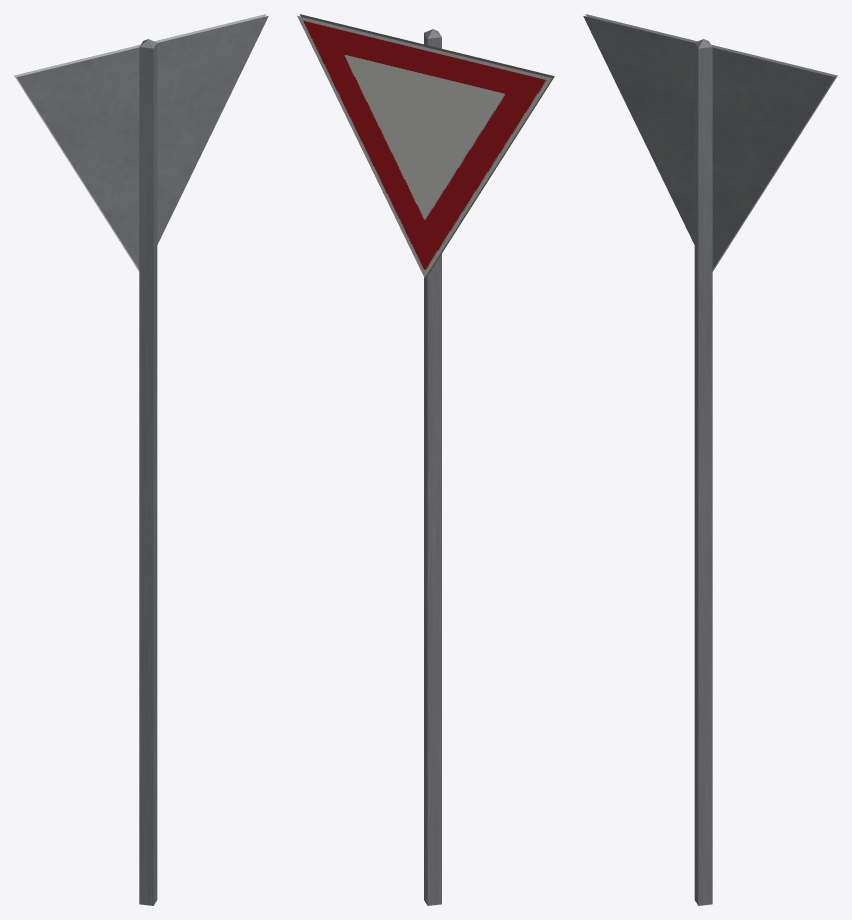
File: SM_Morin_CartelloPrecedenza_LOD2.fbx
3 views of the same model, side by side, from view 1: azimuth 30°, elevation 25°; view 2: azimuth 150°, elevation 25°; view 3: azimuth 330°, elevation 25° (orthographic).
Visible parts, largest first — view 1: SM_Morin_CartelloPrecedenza_LOD2; view 2: SM_Morin_CartelloPrecedenza_LOD2; view 3: SM_Morin_CartelloPrecedenza_LOD2.
Boxes of the visible parts, box(x1,y1,x2,y2) form: SM_Morin_CartelloPrecedenza_LOD2: box(14, 14, 268, 905); SM_Morin_CartelloPrecedenza_LOD2: box(297, 14, 554, 905); SM_Morin_CartelloPrecedenza_LOD2: box(583, 14, 837, 905).
Size of the model in its own units: 90 by 8.2 by 294.
1 material, 1 textured.
